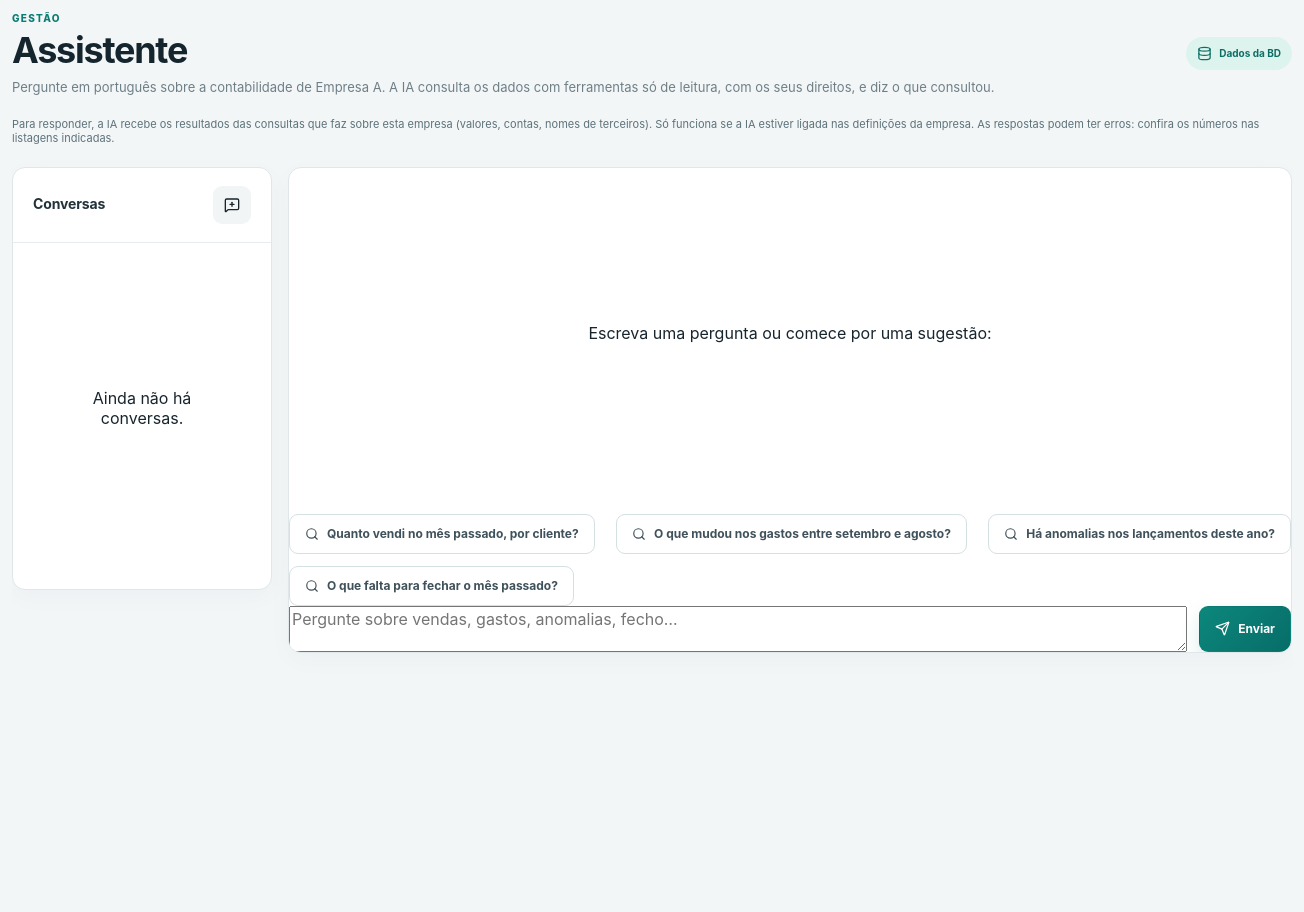
assistente › mostra a recusa e devolve a pergunta ao campo
In the text box named "Pergunta": coordinates (738, 629) [289,606,1187,652], type "Quanto vendi?"
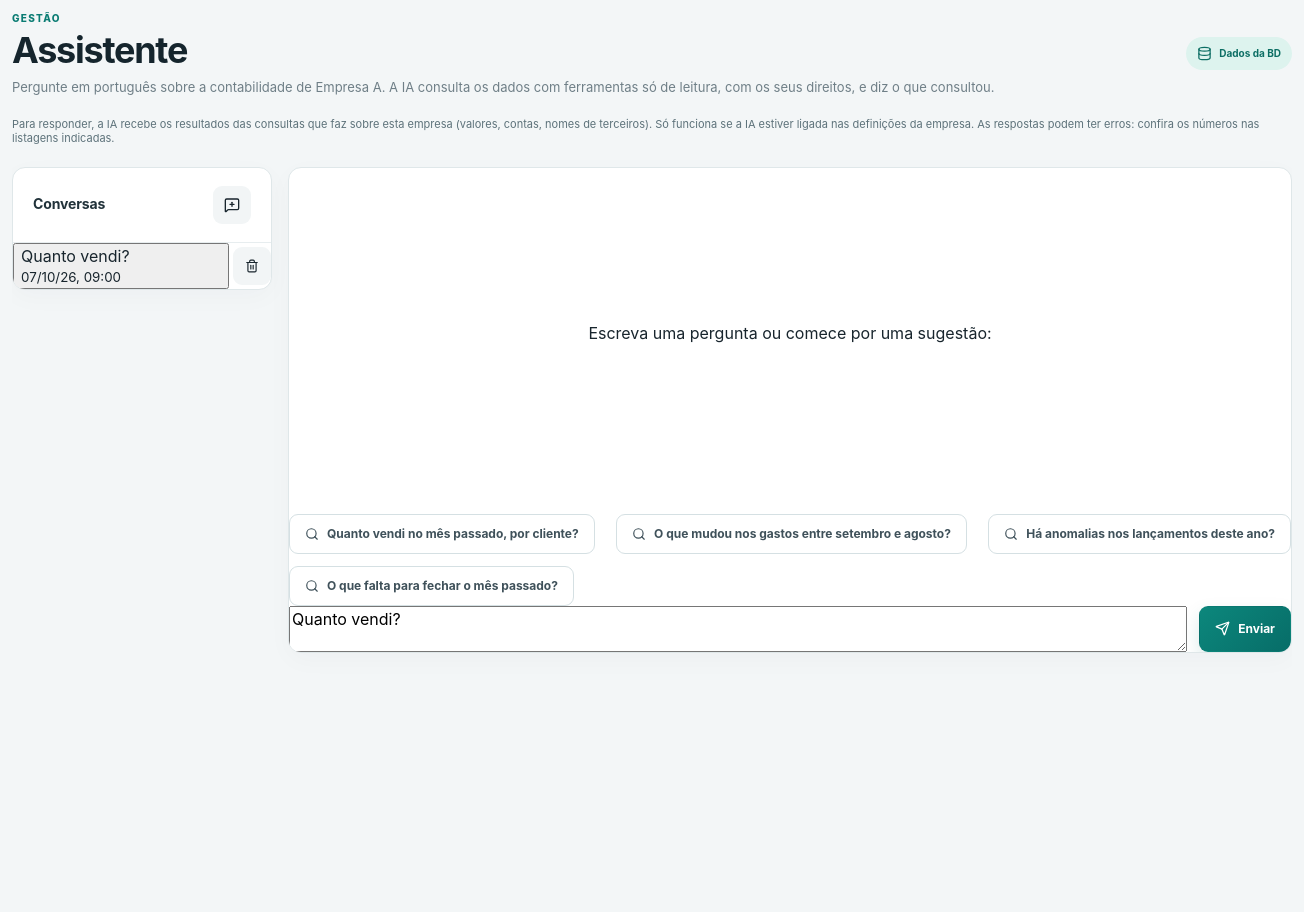
Click the button "Enviar": coordinates (1245, 629) [1199,606,1291,652]
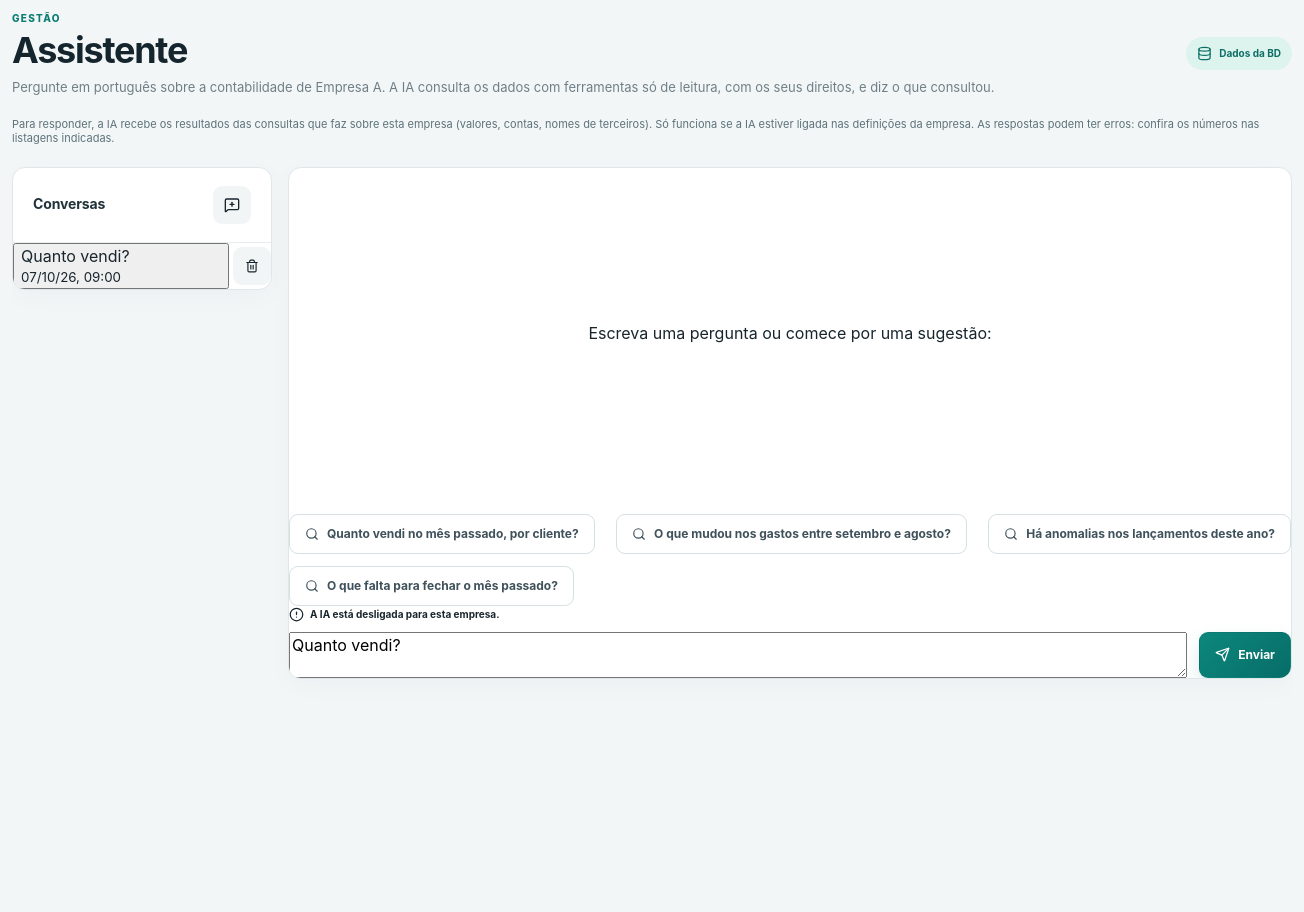
Result: the text "A IA está desligada para esta empresa." is shown at [289,607,500,622]
